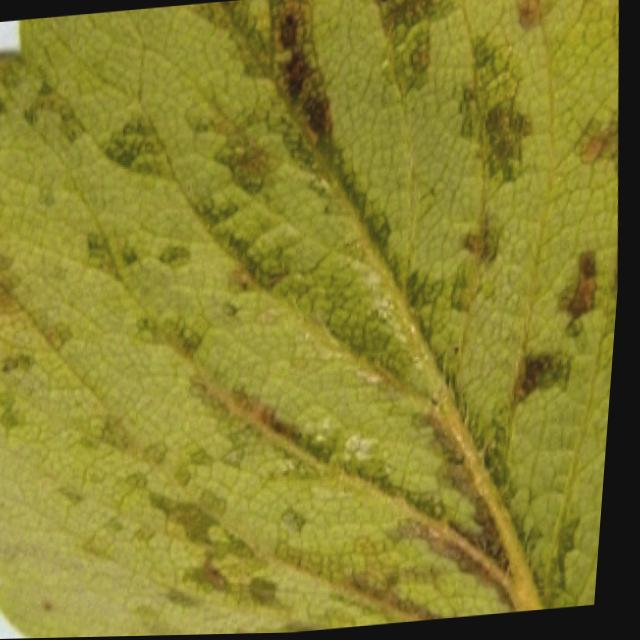Angular Leafspot: (0, 0, 622, 639)
